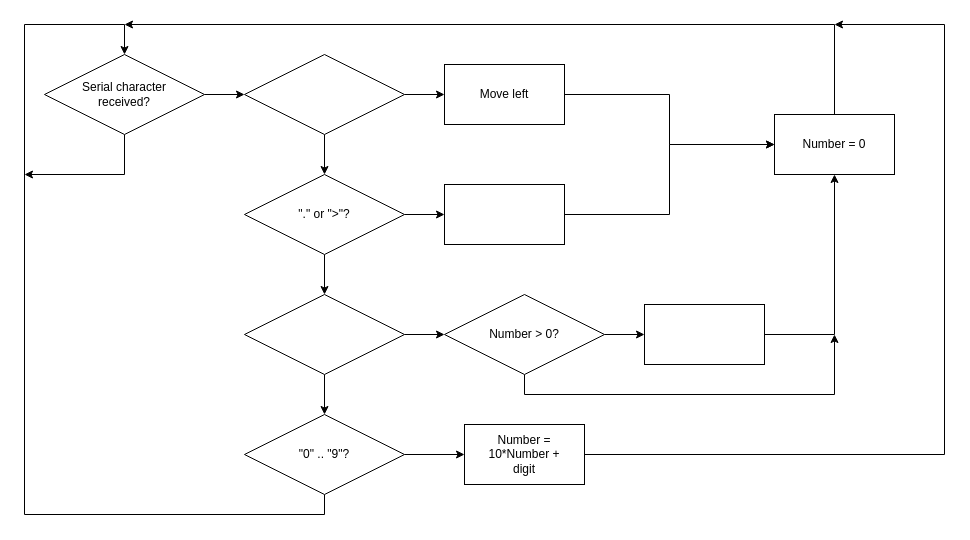
This 970x540 diagram has some shape labels left out. Each missing label, with the centre of its shape:
"," or "<"?: the point at 324,94
"\n"?: the point at 324,334
Move right: the point at 504,214
Set incremental step: the point at 704,334
